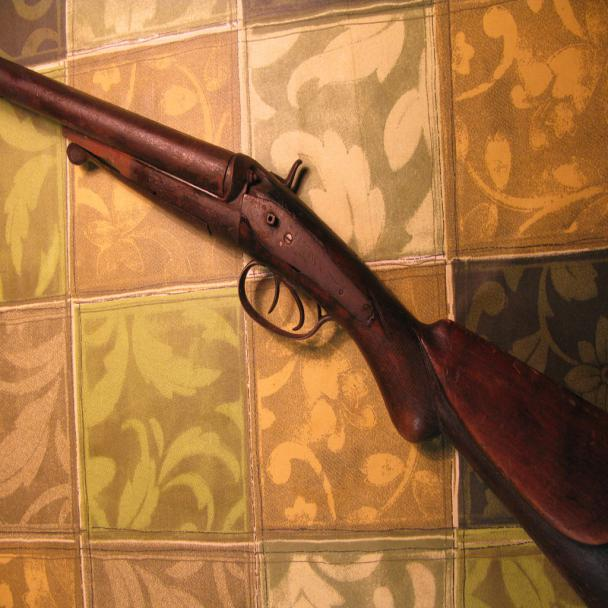Gun: (0, 16, 607, 599)
